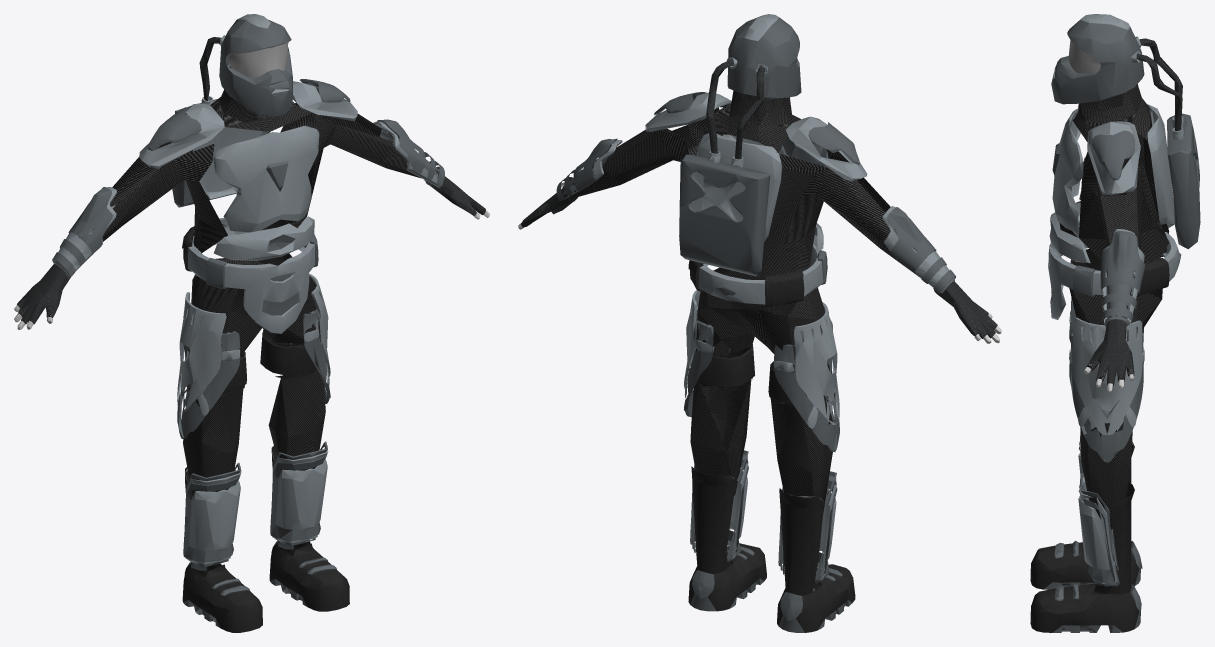
The model's file is personaje.obj.
3 views of the same model, side by side, from view 1: azimuth 30°, elevation 25°; view 2: azimuth 150°, elevation 25°; view 3: azimuth 270°, elevation 25° (orthographic).
Parts seen in each view (by area): view 1: pPipe4, PANTALON, CAMISETABUENA, bota1, CASCO:pCube4, cinturon, armadbota1, soldado:soldado:extrudedSurface2, cosoarmadurapierna2, polySurface6, gafas, polySurface1 (+3 smaller); view 2: CAMISETABUENA, soldado:soldado:extrudedSurface2, PANTALON, bota1, pPipe4, CASCO:pCube4, cinturon, cosoarmadurapierna2, polySurface6, armadbota1, polySurface1, hombro1 (+3 smaller); view 3: soldado:soldado:extrudedSurface2, pPipe4, bota1, CAMISETABUENA, cosoarmdaurapierna1, PANTALON, cinturon, CASCO:pCube4, polySurface1, armadbota1, HOMBRO2, polySurface11 (+2 smaller).
Boxes of the visible parts, <box> form: pPipe4: <box>17,81,485,324</box>; PANTALON: <box>183,253,325,496</box>; CAMISETABUENA: <box>70,66,421,253</box>; bota1: <box>182,446,349,632</box>; CASCO:pCube4: <box>177,292,330,566</box>; cinturon: <box>182,218,318,333</box>; armadbota1: <box>185,448,327,564</box>; soldado:soldado:extrudedSurface2: <box>172,14,292,207</box>; cosoarmadurapierna2: <box>177,320,240,438</box>; polySurface6: <box>223,331,317,392</box>; gafas: <box>228,42,288,78</box>; polySurface1: <box>377,119,444,186</box>; CAMISETABUENA: <box>570,90,938,278</box>; soldado:soldado:extrudedSurface2: <box>679,14,801,276</box>; PANTALON: <box>690,267,832,513</box>; bota1: <box>688,466,855,632</box>; pPipe4: <box>521,92,997,338</box>; CASCO:pCube4: <box>684,302,839,583</box>; cinturon: <box>688,244,827,307</box>; cosoarmadurapierna2: <box>774,344,839,452</box>; polySurface6: <box>697,344,793,405</box>; armadbota1: <box>692,455,836,580</box>; polySurface1: <box>556,138,617,200</box>; hombro1: <box>808,122,859,165</box>; soldado:soldado:extrudedSurface2: <box>1051,14,1200,249</box>; pPipe4: <box>1049,89,1174,385</box>; bota1: <box>1030,442,1142,632</box>; CAMISETABUENA: <box>1059,84,1169,317</box>; cosoarmdaurapierna1: <box>1069,317,1144,434</box>; PANTALON: <box>1069,249,1162,528</box>; cinturon: <box>1048,222,1181,319</box>; CASCO:pCube4: <box>1069,312,1143,586</box>; polySurface1: <box>1100,231,1145,323</box>; armadbota1: <box>1078,441,1117,585</box>; HOMBRO2: <box>1091,130,1134,180</box>; polySurface11: <box>1136,53,1182,130</box>.
Size of the model in its own units: 8.29 by 9.74 by 2.57.
